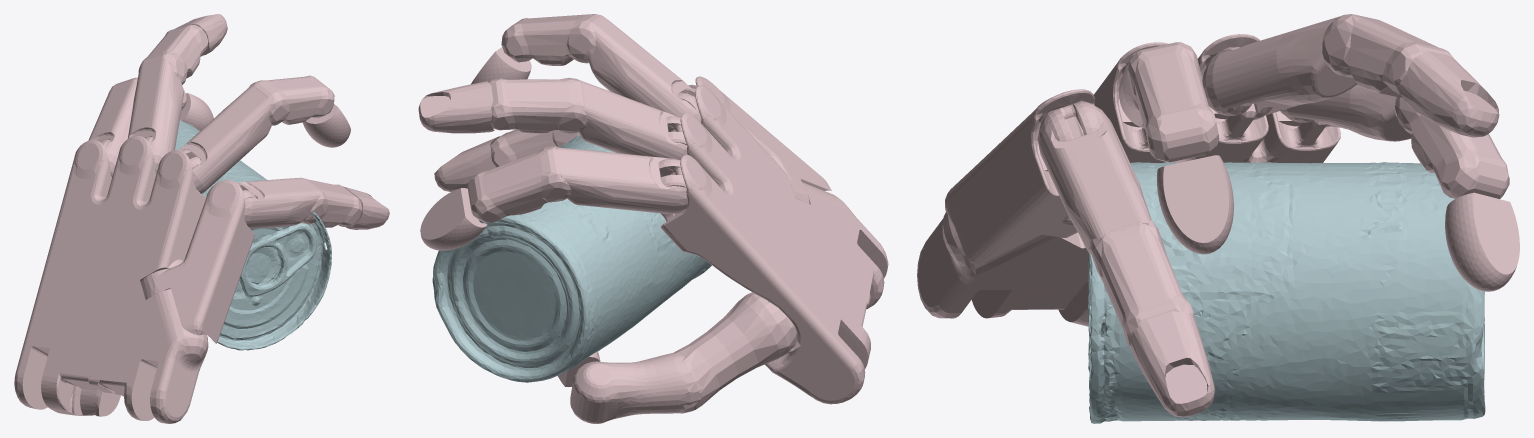
File: grasp_7.glb
3 renders of one model, left to right at view 1: azimuth 30°, elevation 25°; view 2: azimuth 150°, elevation 25°; view 3: azimuth 270°, elevation 25°, orthographic. The views are drawn at different scales.
Visible parts, largest first — view 1: world; view 2: world; view 3: world.
Part boxes in pixels (x1,y1,x2,y2): world: (14,14,389,423); world: (418,14,888,423); world: (917,14,1519,423).
Size of the model in its own units: 0.1768 by 0.1266 by 0.1545.
